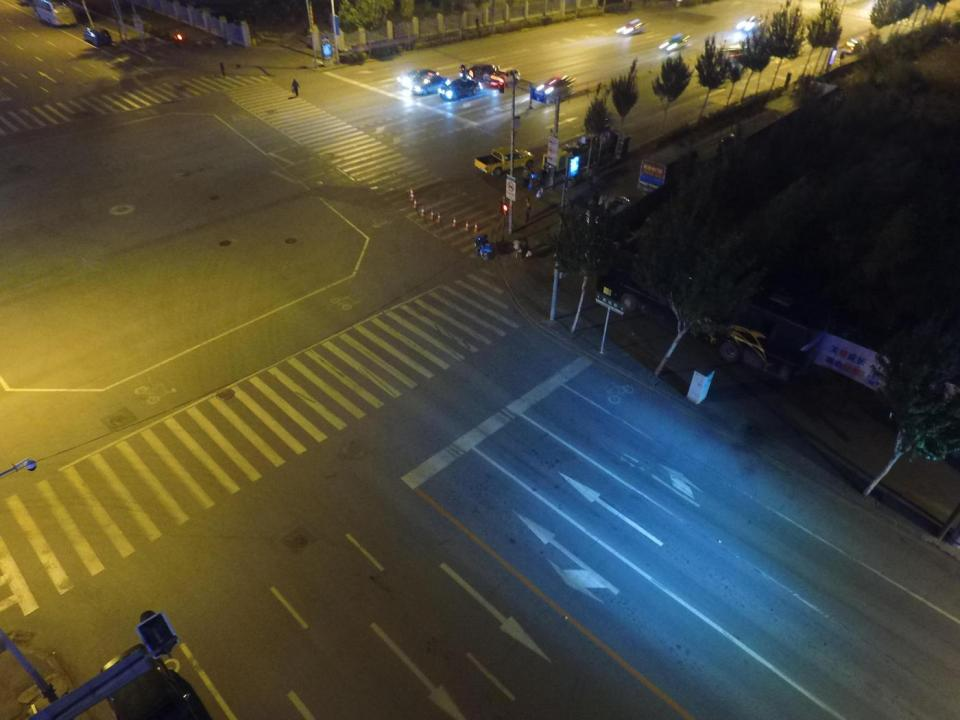bus: (599, 231, 831, 388)
car: (571, 196, 632, 233), (435, 79, 478, 101), (534, 80, 572, 102), (411, 74, 447, 95), (400, 66, 435, 86), (458, 63, 491, 81), (492, 67, 518, 89), (83, 27, 110, 48), (738, 16, 763, 38), (660, 35, 692, 51), (621, 19, 646, 37)
truck: (636, 147, 701, 195), (564, 128, 627, 162), (475, 146, 534, 176)
van: (34, 0, 75, 26)
